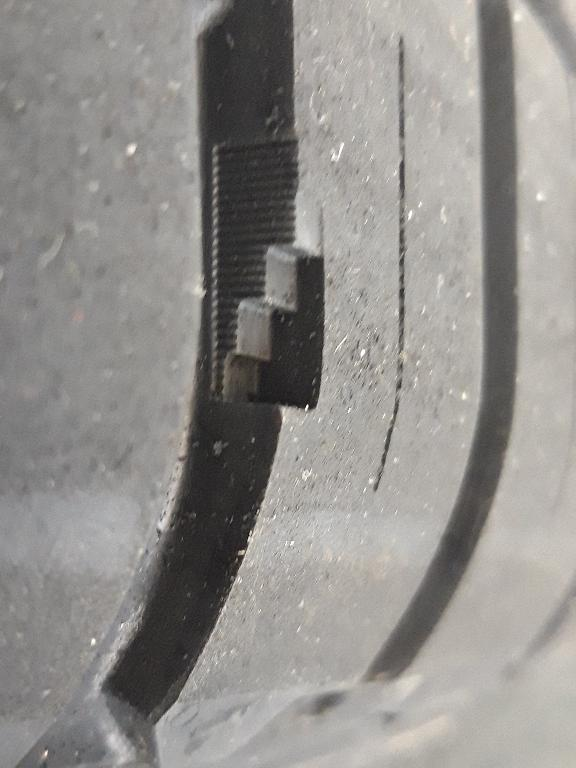temoin:75: (199, 176, 340, 427)
